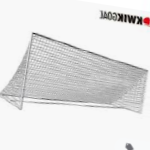goals: (1, 31, 150, 114)
